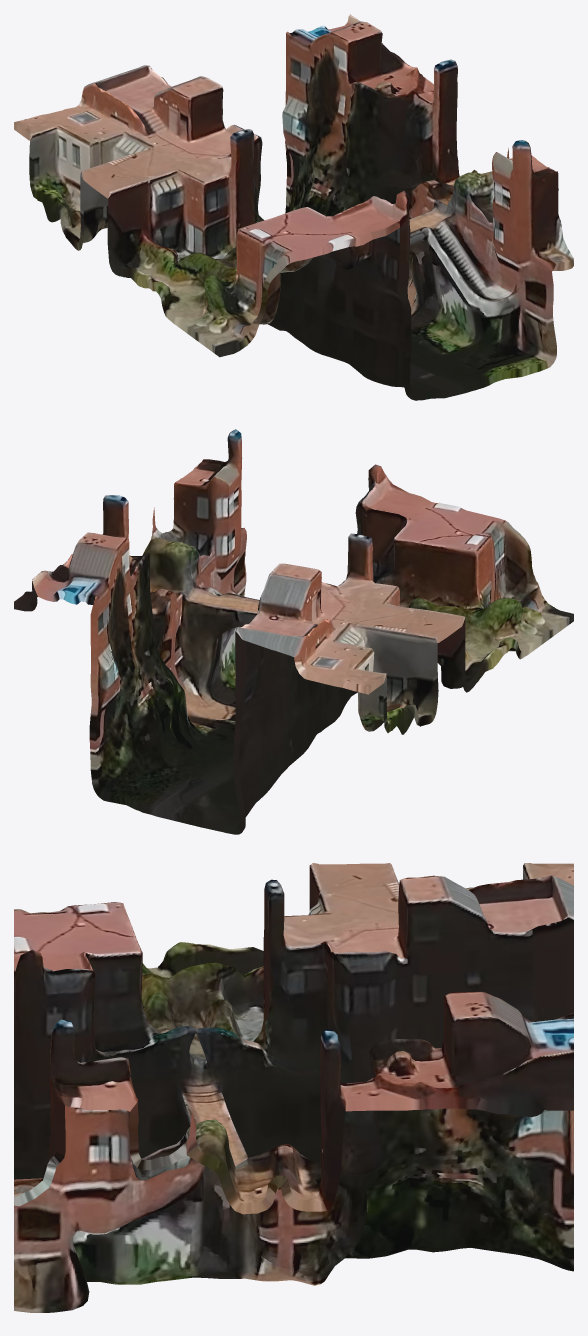
File: z20-167777-405211-h0-yup-uvflip-v3-world.glb
3 renders of one model, top to bottom at view 1: azimuth 30°, elevation 25°; view 2: azimuth 150°, elevation 25°; view 3: azimuth 270°, elevation 25°, orthographic. The views are drawn at different scales.
Bounding box in the file's own units: 30.16 × 18.4 × 30.32.
1 material, 1 textured.
